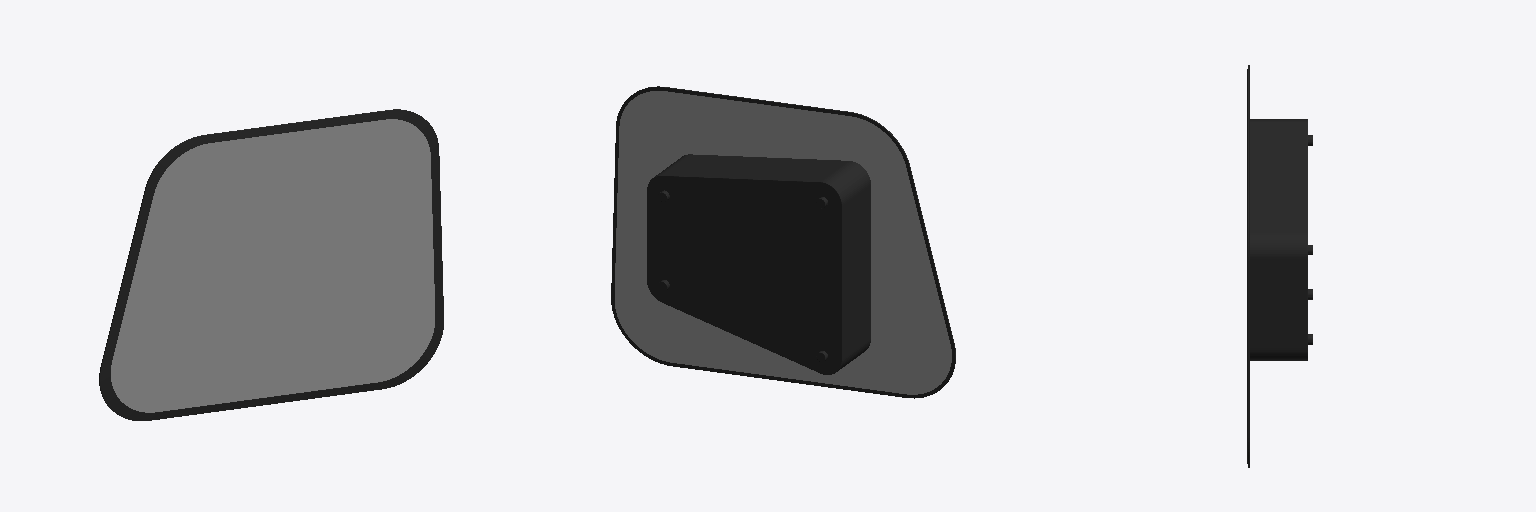
The model's file is Molteni_Mayfair_Table_V2_mat(1).obj.
3 renders of one model, left to right at view 1: azimuth 30°, elevation 25°; view 2: azimuth 150°, elevation 25°; view 3: azimuth 270°, elevation 25°, orthographic.
Visible parts, largest first — view 1: Molteni_Mayfair_Table_V2_mat1; view 2: Molteni_Mayfair_Table_V2_mat1; view 3: Molteni_Mayfair_Table_V2_mat1.
Boxes of the visible parts, <box> form: Molteni_Mayfair_Table_V2_mat1: <box>99,109,443,420</box>; Molteni_Mayfair_Table_V2_mat1: <box>611,86,955,398</box>; Molteni_Mayfair_Table_V2_mat1: <box>1247,65,1312,467</box>.
Bounding box in the file's own units: 150 × 124 × 25.